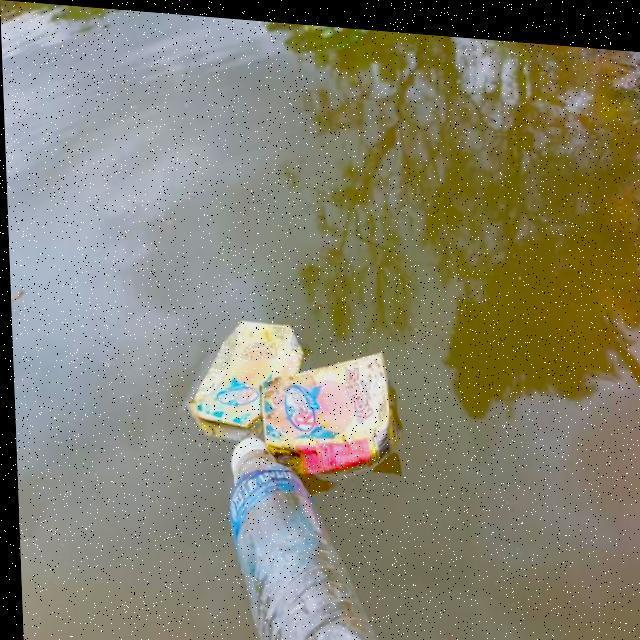Bottle: (222, 432, 387, 640)
Box: (257, 346, 399, 468), (183, 316, 308, 429)
